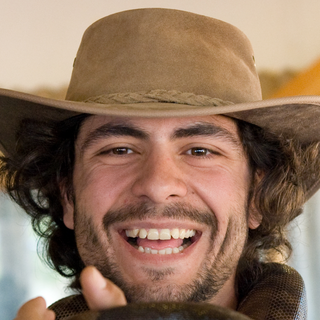eye: (177, 141, 224, 164), (97, 141, 145, 163)
